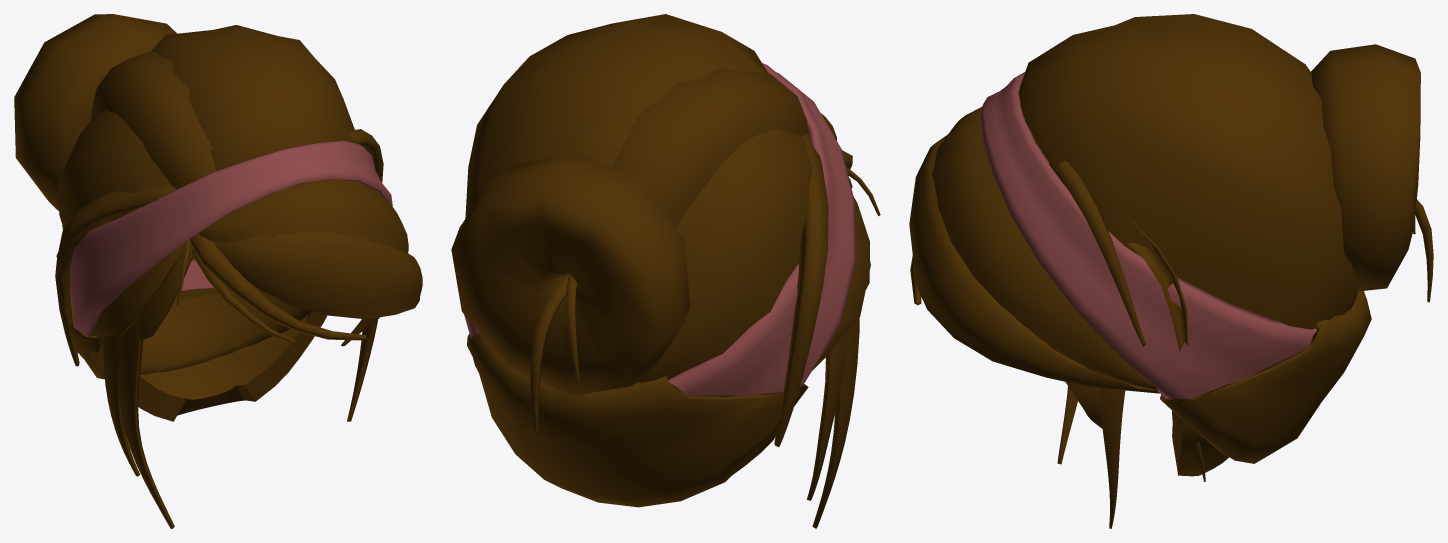
The model's file is HairMery.fbx.
3 renders of one model, left to right at view 1: azimuth 30°, elevation 25°; view 2: azimuth 150°, elevation 25°; view 3: azimuth 270°, elevation 25°, orthographic. The views are drawn at different scales.
Parts seen in each view (by area): view 1: Mery_hair_preview_geo_16, Mery_hair_preview_geo_01, Mery_hair_preview_geo_24, Mery_hair_preview_geo_17, Mery_hair_preview_geo_15, Mery_hair_preview_geo_12, Mery_hair_preview_geo_18, Mery_hair_preview_geo_02, Mery_hair_preview_geo_14, Mery_hair_preview_geo_19, Mery_hair_preview_geo_04, Mery_hair_preview_geo_06 (+6 smaller); view 2: Mery_hair_preview_geo_24, Mery_hair_preview_geo_02, Mery_hair_preview_geo_16, Mery_hair_preview_geo_14, Mery_hair_preview_geo_15, Mery_hair_preview_geo_01, Mery_hair_preview_geo_19, Mery_hair_preview_geo_06, Mery_hair_preview_geo_08, Mery_hair_preview_geo_03, Mery_hair_preview_geo_20, Mery_hair_preview_geo_21; view 3: Mery_hair_preview_geo_16, Mery_hair_preview_geo_01, Mery_hair_preview_geo_24, Mery_hair_preview_geo_18, Mery_hair_preview_geo_02, Mery_hair_preview_geo_17, Mery_hair_preview_geo_23, Mery_hair_preview_geo_05, Mery_hair_preview_geo_12, Mery_hair_preview_geo_15, Mery_hair_preview_geo_22, Mery_hair_preview_geo_10 (+2 smaller).
Boxes of the visible parts, left/top/right/bottom form: Mery_hair_preview_geo_16: left=152, top=25, right=354, bottom=170; Mery_hair_preview_geo_01: left=56, top=140, right=392, bottom=336; Mery_hair_preview_geo_24: left=14, top=14, right=176, bottom=210; Mery_hair_preview_geo_17: left=215, top=232, right=422, bottom=319; Mery_hair_preview_geo_15: left=90, top=50, right=216, bottom=189; Mery_hair_preview_geo_12: left=90, top=283, right=327, bottom=421; Mery_hair_preview_geo_18: left=199, top=179, right=408, bottom=253; Mery_hair_preview_geo_02: left=70, top=257, right=309, bottom=379; Mery_hair_preview_geo_14: left=58, top=110, right=170, bottom=230; Mery_hair_preview_geo_19: left=55, top=184, right=176, bottom=366; Mery_hair_preview_geo_04: left=190, top=233, right=366, bottom=340; Mery_hair_preview_geo_06: left=115, top=317, right=174, bottom=528; Mery_hair_preview_geo_24: left=451, top=152, right=690, bottom=395; Mery_hair_preview_geo_02: left=467, top=333, right=808, bottom=507; Mery_hair_preview_geo_16: left=465, top=14, right=768, bottom=218; Mery_hair_preview_geo_14: left=638, top=128, right=812, bottom=382; Mery_hair_preview_geo_15: left=611, top=68, right=807, bottom=227; Mery_hair_preview_geo_01: left=464, top=63, right=856, bottom=395; Mery_hair_preview_geo_19: left=774, top=133, right=828, bottom=446; Mery_hair_preview_geo_06: left=812, top=317, right=859, bottom=528; Mery_hair_preview_geo_08: left=807, top=332, right=847, bottom=500; Mery_hair_preview_geo_03: left=812, top=203, right=870, bottom=370; Mery_hair_preview_geo_20: left=530, top=273, right=568, bottom=433; Mery_hair_preview_geo_21: left=566, top=274, right=579, bottom=384; Mery_hair_preview_geo_16: left=1019, top=22, right=1358, bottom=329; Mery_hair_preview_geo_01: left=979, top=72, right=1316, bottom=399; Mery_hair_preview_geo_24: left=1311, top=44, right=1420, bottom=291; Mery_hair_preview_geo_18: left=932, top=107, right=1157, bottom=390; Mery_hair_preview_geo_02: left=1160, top=290, right=1371, bottom=463; Mery_hair_preview_geo_17: left=909, top=134, right=1159, bottom=393; Mery_hair_preview_geo_23: left=1049, top=161, right=1145, bottom=346; Mery_hair_preview_geo_05: left=1099, top=387, right=1125, bottom=528; Mery_hair_preview_geo_12: left=1172, top=411, right=1228, bottom=476; Mery_hair_preview_geo_15: left=1116, top=14, right=1312, bottom=85; Mery_hair_preview_geo_22: left=1128, top=218, right=1188, bottom=351; Mery_hair_preview_geo_10: left=1065, top=382, right=1102, bottom=428.
Bounding box in the file's own units: 23.96 × 32.18 × 31.24.
